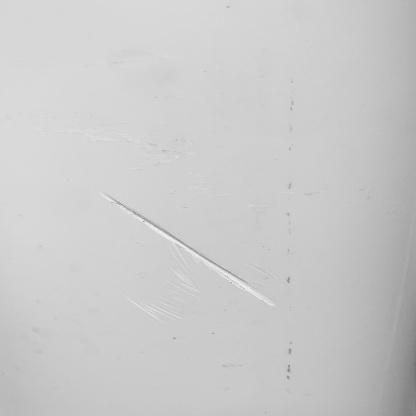sunshang: (105, 189, 279, 308)
